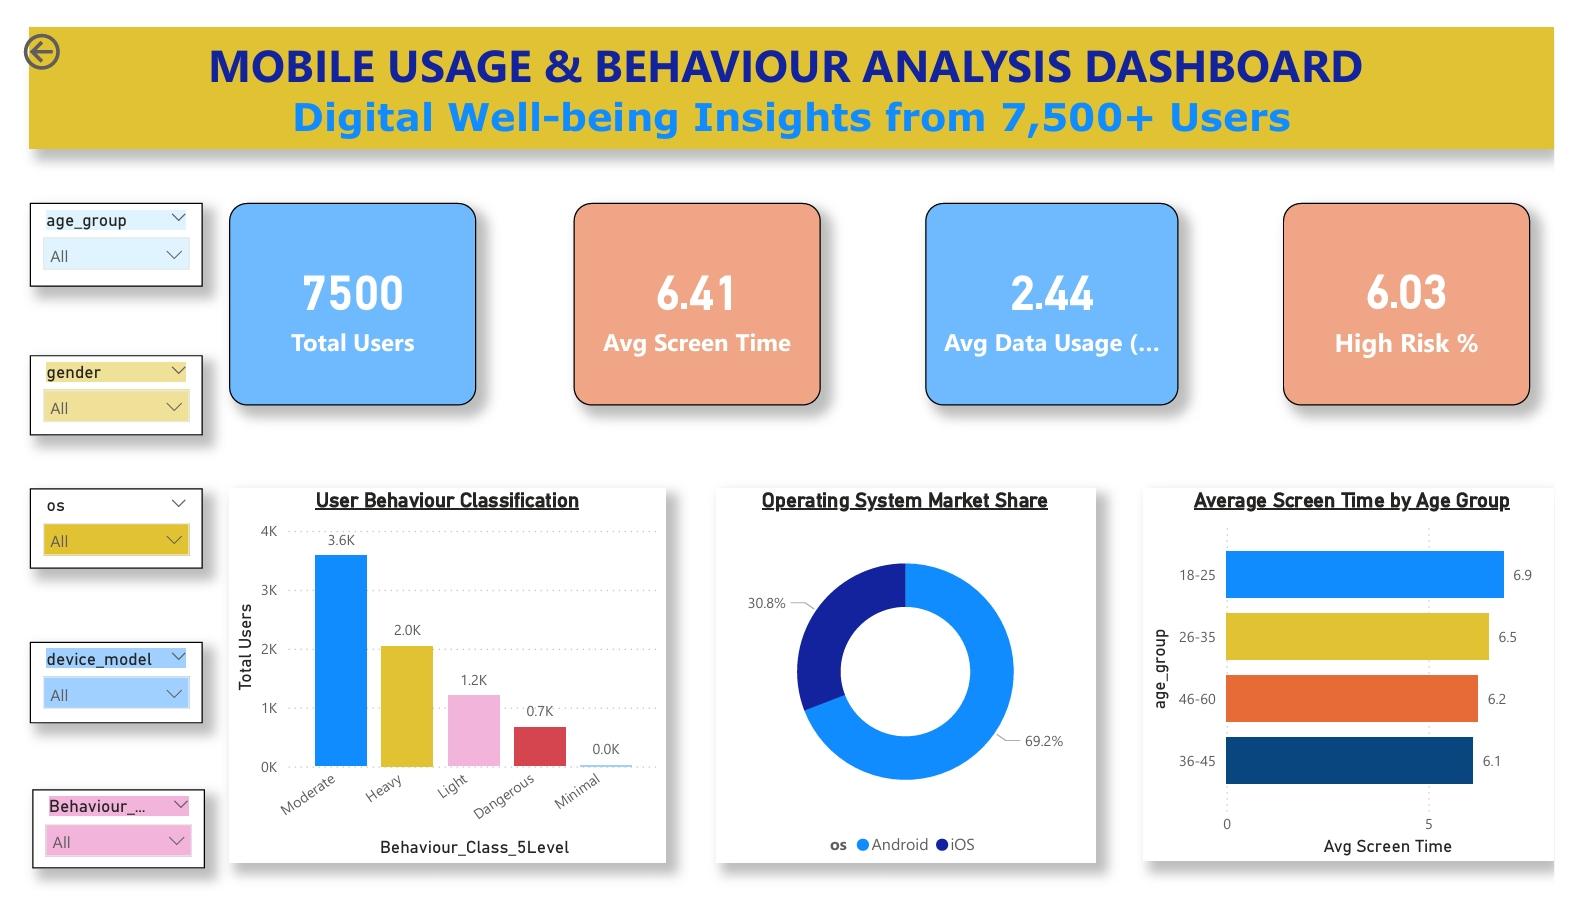

What the dashboard file says about the page in this screenshot:
{"tool":"powerbi","page":{"name":"Executive Summary","canvas":[1280,720],"ordinal":0},"visuals":[{"type":"textbox","box":[10.1,0,1269.9,101.1],"z":0},{"type":"card","fields":{"Values":["Measures (3).Total Users"]},"box":[175.9,145.6,206.3,169.9],"z":1000},{"type":"card","fields":{"Values":["Measures (3).Avg Screen Time"]},"box":[463.1,145.6,206.3,169.9],"z":2000},{"type":"card","fields":{"Values":["Measures (3).Avg Data Usage (GB)"]},"box":[756.3,145.6,210.3,169.9],"z":3000},{"type":"card","fields":{"Values":["Measures (3).High Risk %"]},"box":[1053.5,145.6,206.3,169.9],"z":4000},{"type":"clusteredColumnChart","title":"User Behaviour Classification","fields":{"Category":["user_behavior_dataset.Behaviour_Class_5Level"],"Y":["Measures (3).Total Users"]},"box":[175.9,384.2,364,311.4],"z":5000},{"type":"donutChart","title":"Operating System Market Share","fields":{"Y":["Measures (3).Total Users"],"Category":["user_behavior_dataset.os"]},"box":[582.4,384.2,315.5,311.4],"z":6000},{"type":"clusteredBarChart","title":"Average Screen Time by Age Group","fields":{"Category":["user_behavior_dataset.age_group"],"Y":["Measures (3).Avg Screen Time"]},"box":[938.1,384.1,341.6,310.8],"z":7000},{"type":"actionButton","box":[0,0,100,40],"z":8000},{"type":"slicer","fields":{"Values":["user_behavior_dataset.age_group"]},"box":[10.1,145.6,143.6,70.8],"z":9000},{"type":"slicer","fields":{"Values":["user_behavior_dataset.gender"]},"box":[10.1,273,143.6,66.7],"z":10000},{"type":"slicer","fields":{"Values":["user_behavior_dataset.os"]},"box":[10.1,384.2,143.6,66.7],"z":11000},{"type":"slicer","fields":{"Values":["user_behavior_dataset.device_model"]},"box":[10.1,511.6,143.6,68.8],"z":12000},{"type":"slicer","fields":{"Values":["user_behavior_dataset.Behaviour_Class_5Level"]},"box":[12.1,634.9,143.6,66],"z":13000}]}

Visuals, with their boxes in screenshot pixels (x1, y1, x2, y2), scaled from the page's 1280x720 canvas onto the 1582x905 screenshot:
textbox: Rect(12, 0, 1581, 127)
card - Measures (3).Total Users: Rect(217, 183, 472, 397)
card - Measures (3).Avg Screen Time: Rect(572, 183, 827, 397)
card - Measures (3).Avg Data Usage (GB): Rect(935, 183, 1195, 397)
card - Measures (3).High Risk %: Rect(1302, 183, 1557, 397)
"User Behaviour Classification" clusteredColumnChart: Rect(217, 483, 667, 874)
"Operating System Market Share" donutChart: Rect(720, 483, 1110, 874)
"Average Screen Time by Age Group" clusteredBarChart: Rect(1159, 483, 1581, 873)
actionButton: Rect(0, 0, 124, 50)
slicer - user_behavior_dataset.age_group: Rect(12, 183, 190, 272)
slicer - user_behavior_dataset.gender: Rect(12, 343, 190, 427)
slicer - user_behavior_dataset.os: Rect(12, 483, 190, 567)
slicer - user_behavior_dataset.device_model: Rect(12, 643, 190, 730)
slicer - user_behavior_dataset.Behaviour_Class_5Level: Rect(15, 798, 192, 881)
